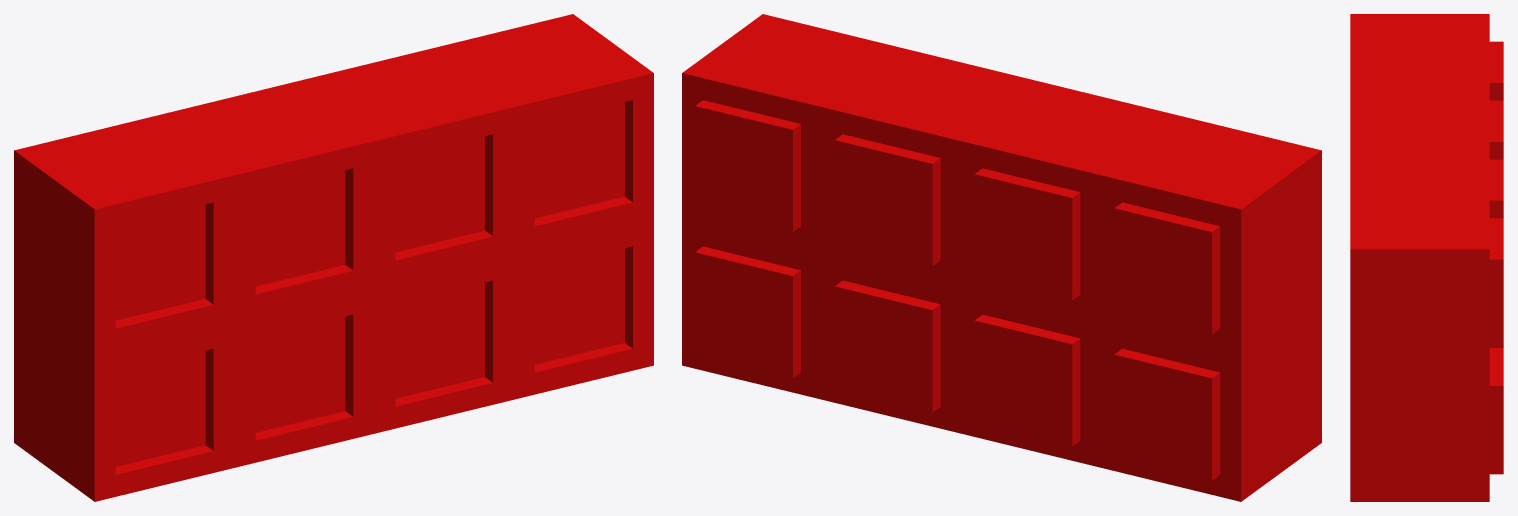
File: Building Blocks.fbx
The picture shows the model from 3 angles, left to right: view 1: azimuth 30°, elevation 25°; view 2: azimuth 150°, elevation 25°; view 3: azimuth 270°, elevation 25°; orthographic projection. The views are drawn at different scales.
Parts seen in each view (by area): view 1: Cube; view 2: Cube; view 3: Cube.
Boxes of the visible parts, x1,y1,x2,y2 form: Cube: (14,14,653,501); Cube: (682,14,1321,501); Cube: (1350,14,1503,501).
Bounding box in the file's own units: 400 × 200 × 110.
